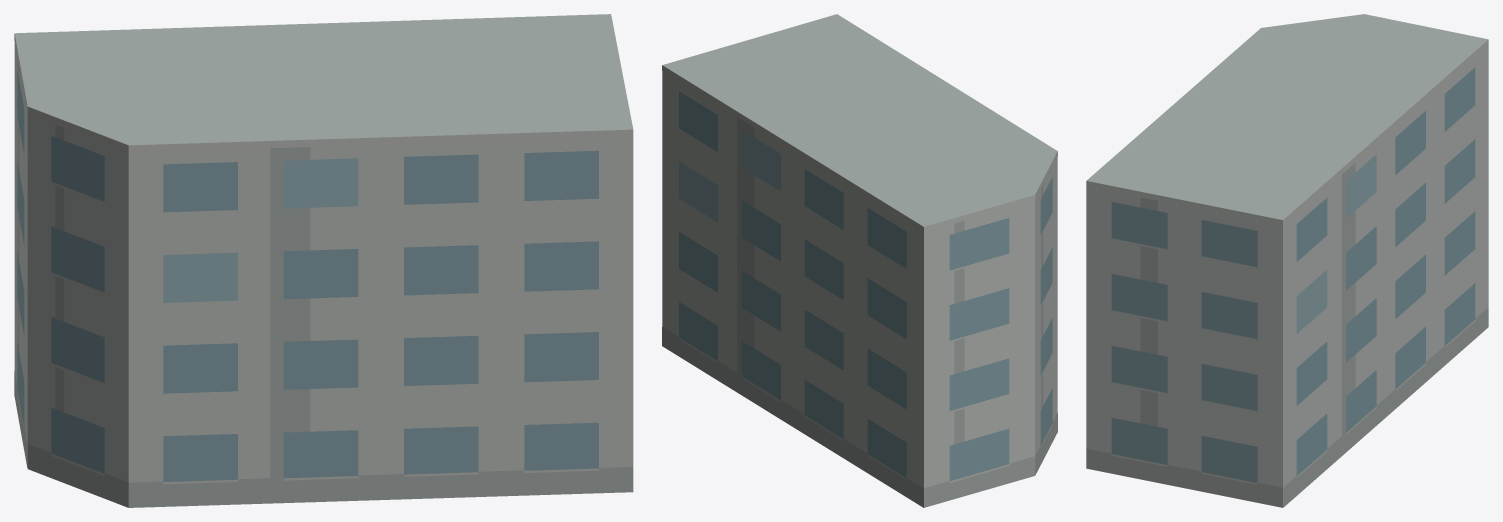
Rendered from residential-a4d6e390-ae5e-43a1-b15a-e075d201e3de.glb.
3 views of the same model, side by side, from view 1: azimuth 30°, elevation 25°; view 2: azimuth 150°, elevation 25°; view 3: azimuth 270°, elevation 25° (orthographic). The views are drawn at different scales.
Visible parts, largest first — view 1: residential-a4d6e390-ae5e-43a1-b15a-e075d201e3de.tmp; view 2: residential-a4d6e390-ae5e-43a1-b15a-e075d201e3de.tmp; view 3: residential-a4d6e390-ae5e-43a1-b15a-e075d201e3de.tmp.
Boxes of the visible parts, x1=… form: residential-a4d6e390-ae5e-43a1-b15a-e075d201e3de.tmp: x1=14, y1=14, x2=633, y2=507; residential-a4d6e390-ae5e-43a1-b15a-e075d201e3de.tmp: x1=662, y1=14, x2=1057, y2=507; residential-a4d6e390-ae5e-43a1-b15a-e075d201e3de.tmp: x1=1086, y1=14, x2=1488, y2=507.
Bounding box in the file's own units: 18.45 × 12 × 15.22.
